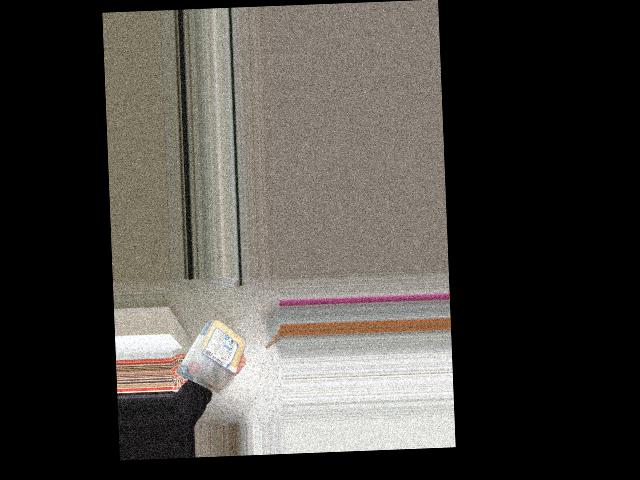cheese: (185, 319, 246, 387)
